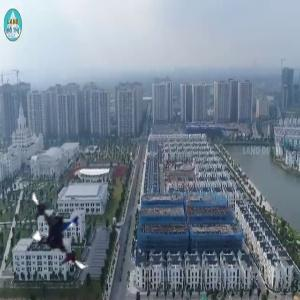drone: (17, 173, 118, 274)
